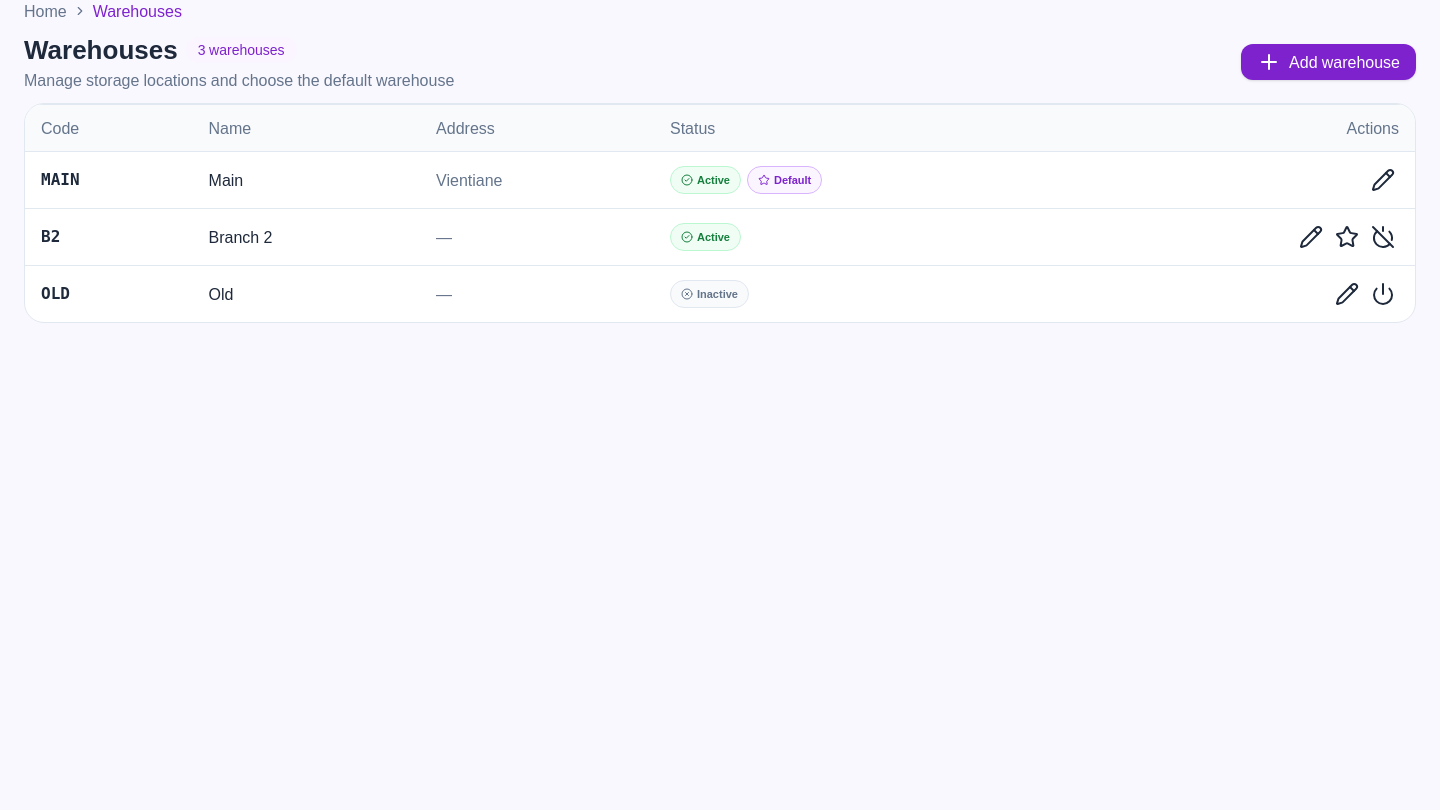
Test: WarehouseList › API ຕອບ error ເມື່ອປິດ: ບໍ່ crash (toast ຜ່ານ errorMessage)
Expected: the row with test id "row-warehouse-w2" is shown, [25, 208, 1415, 265]
Click the button named "Deactivate": (1383,236) [1367, 220, 1399, 252]
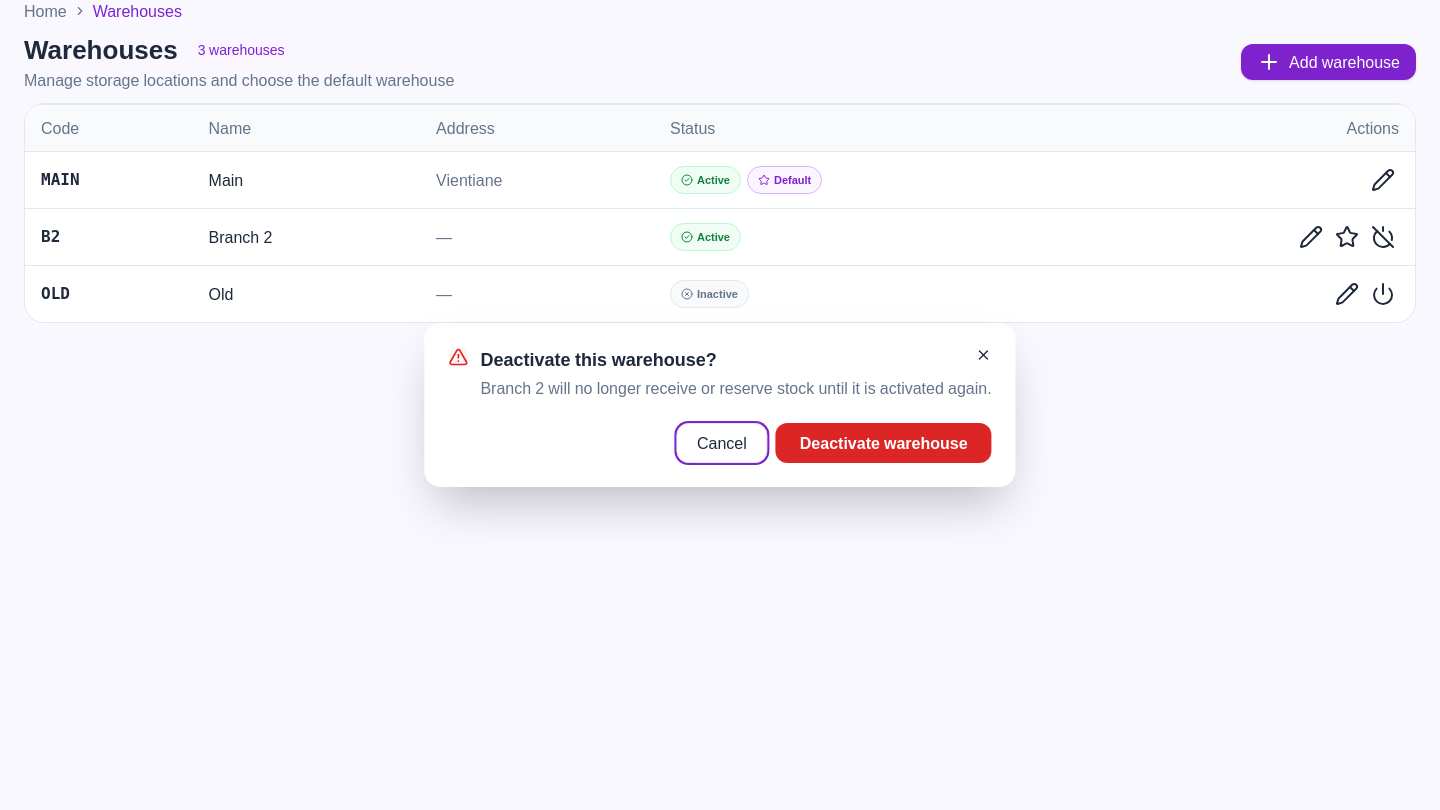
Click the button "Deactivate warehouse": (884,443) [776, 423, 992, 463]
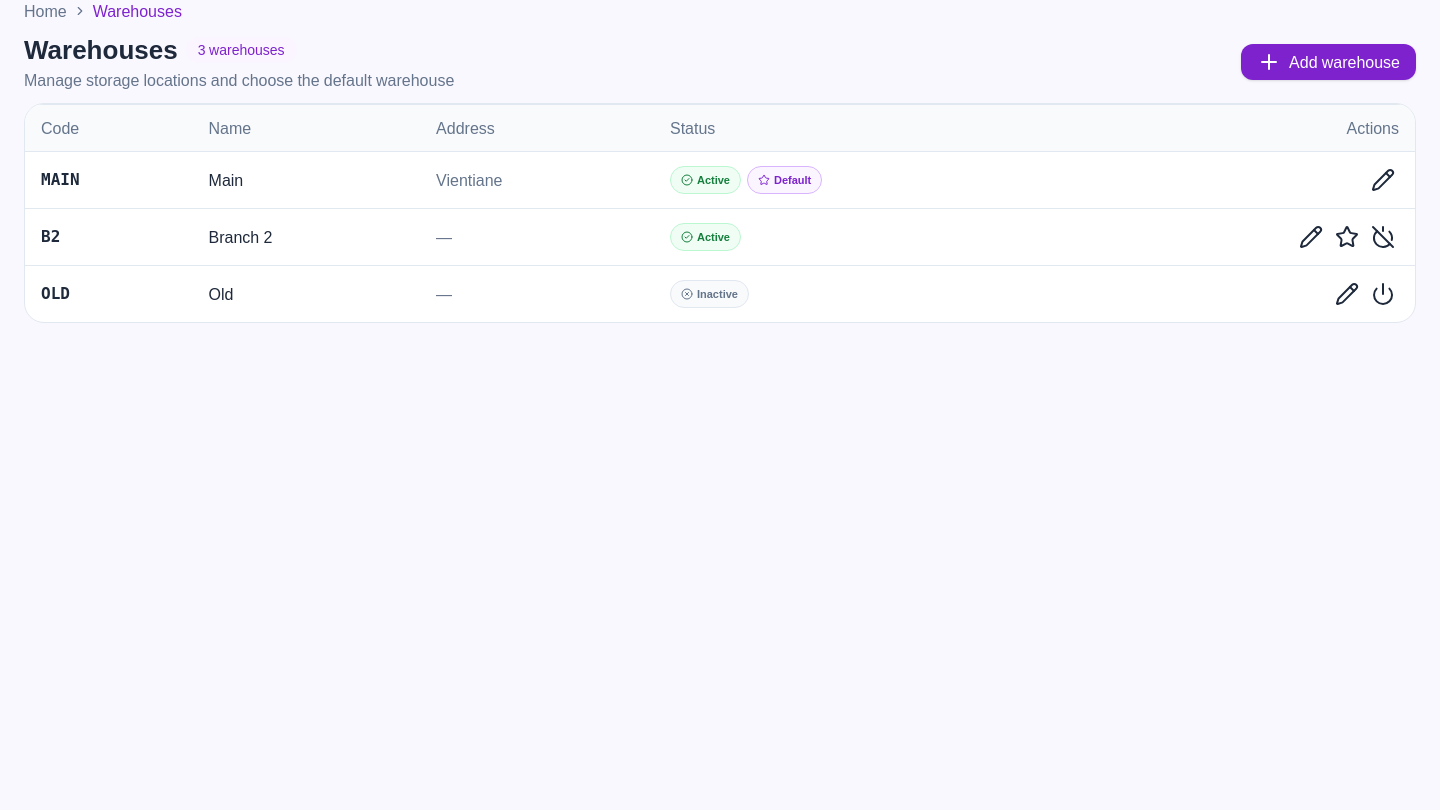
Expected: the button "Deactivate warehouse" is gone
